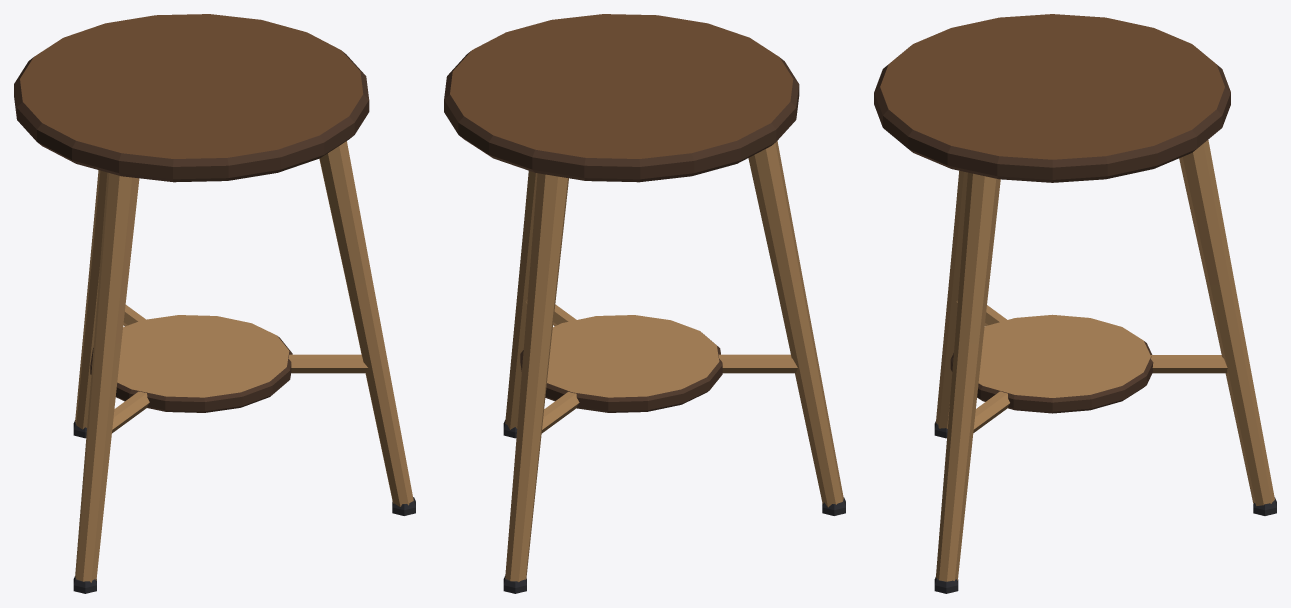
File: FN_Table_Bedside_Round.obj
3 views of the same model, side by side, from view 1: azimuth 30°, elevation 25°; view 2: azimuth 150°, elevation 25°; view 3: azimuth 270°, elevation 25° (orthographic).
Parts seen in each view (by area): view 1: FN_Table_Bedside_Round; view 2: FN_Table_Bedside_Round; view 3: FN_Table_Bedside_Round.
Part boxes in pixels (x1=…): FN_Table_Bedside_Round: x1=14, y1=14, x2=415, y2=593; FN_Table_Bedside_Round: x1=444, y1=14, x2=845, y2=593; FN_Table_Bedside_Round: x1=874, y1=14, x2=1276, y2=593.
Size of the model in its own units: 0.465 by 0.55 by 0.4739.
Materials: 1 (1 with a texture image).
